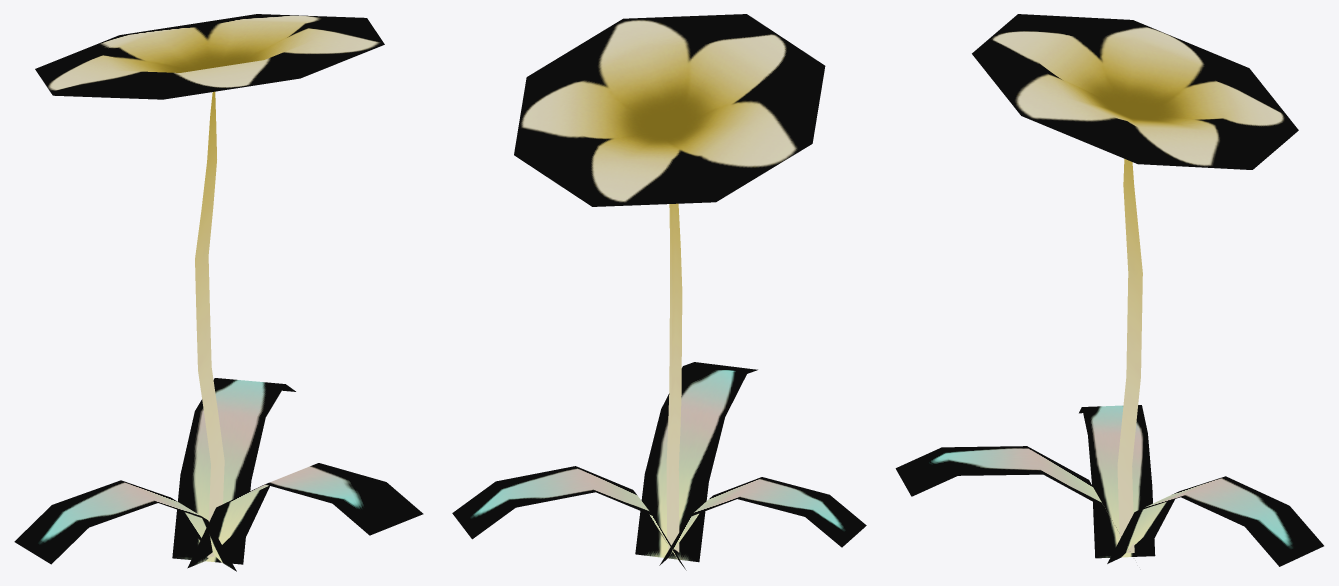
The model's file is SM_Flower_01.fbx.
3 views of the same model, side by side, from view 1: azimuth 30°, elevation 25°; view 2: azimuth 150°, elevation 25°; view 3: azimuth 270°, elevation 25° (orthographic). The views are drawn at different scales.
Visible parts, largest first — view 1: SM_Flower_01; view 2: SM_Flower_01; view 3: SM_Flower_01.
Part boxes in pixels (x1=…): SM_Flower_01: x1=14, y1=14, x2=423, y2=571; SM_Flower_01: x1=452, y1=14, x2=866, y2=570; SM_Flower_01: x1=895, y1=14, x2=1323, y2=566.
Bounding box in the file's own units: 8.23 × 11.92 × 9.21.
